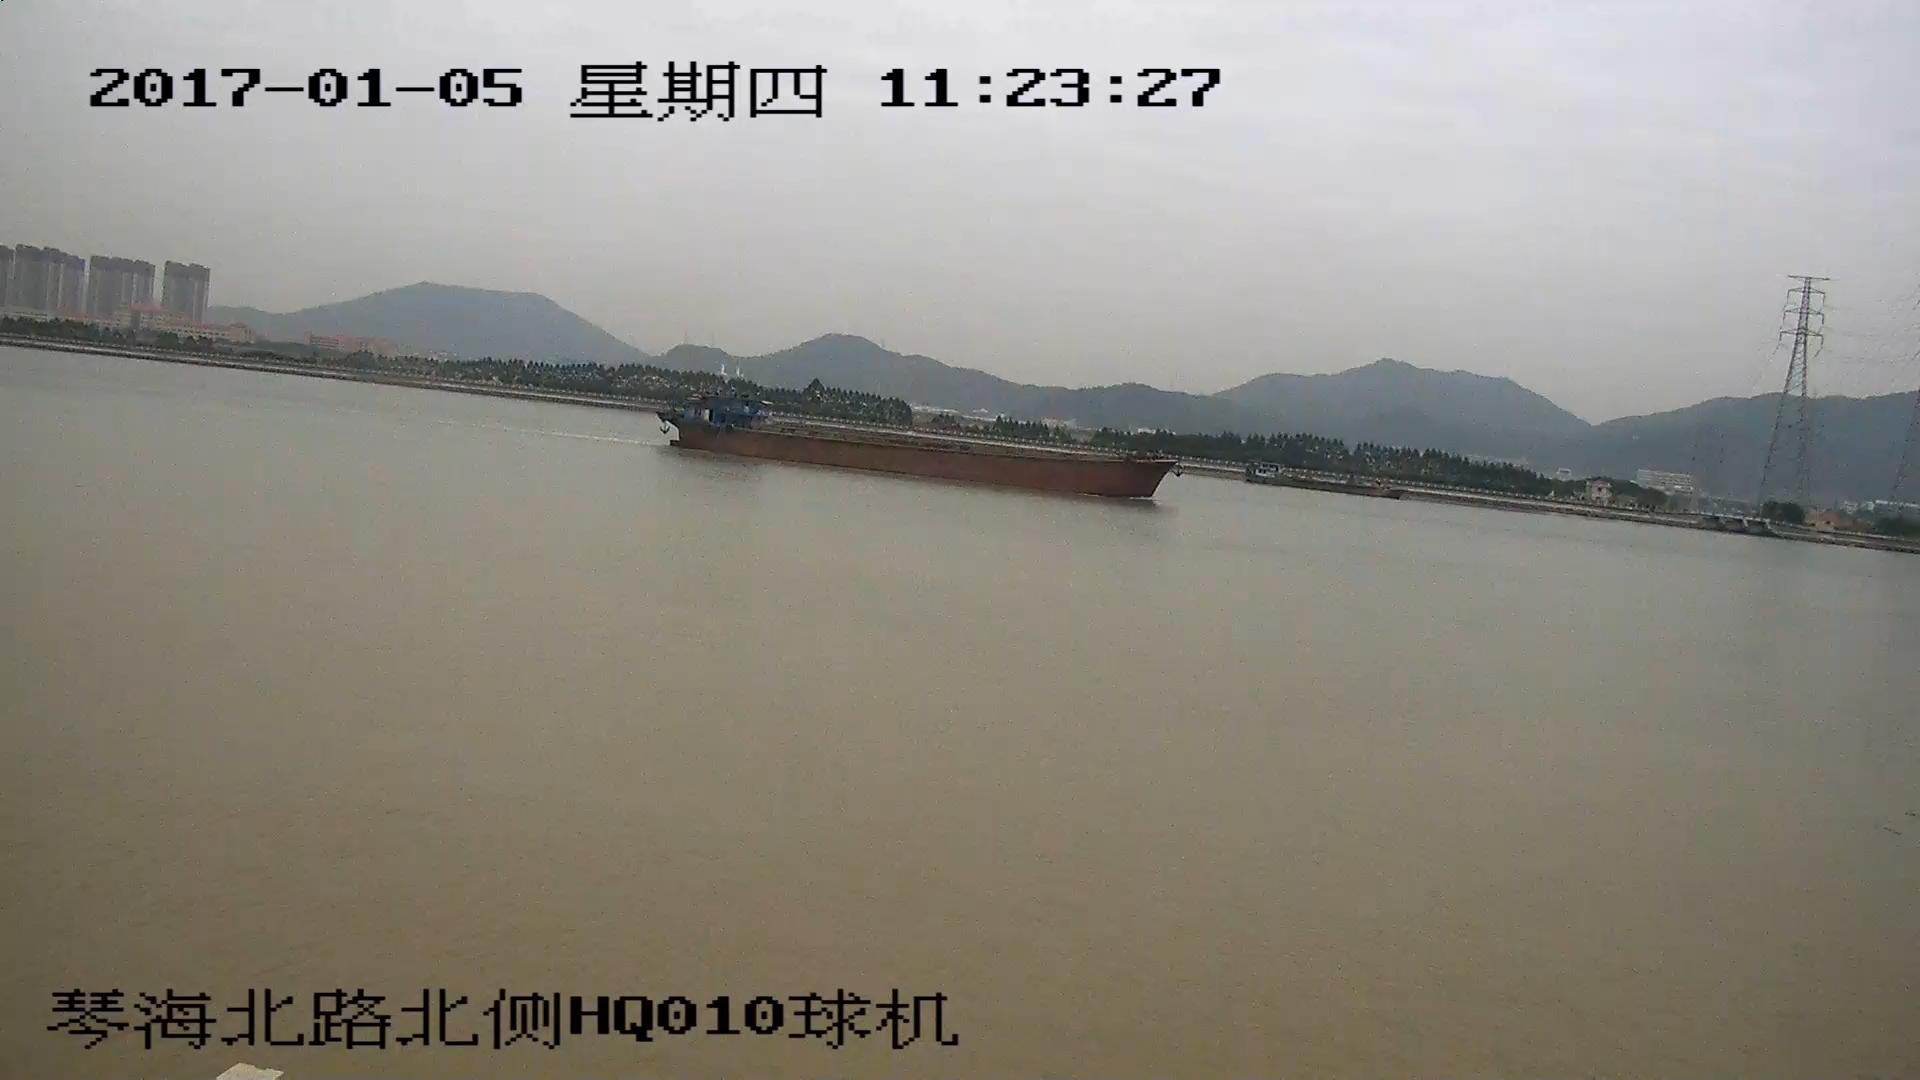bulk cargo carrier: (662, 375, 1189, 494)
